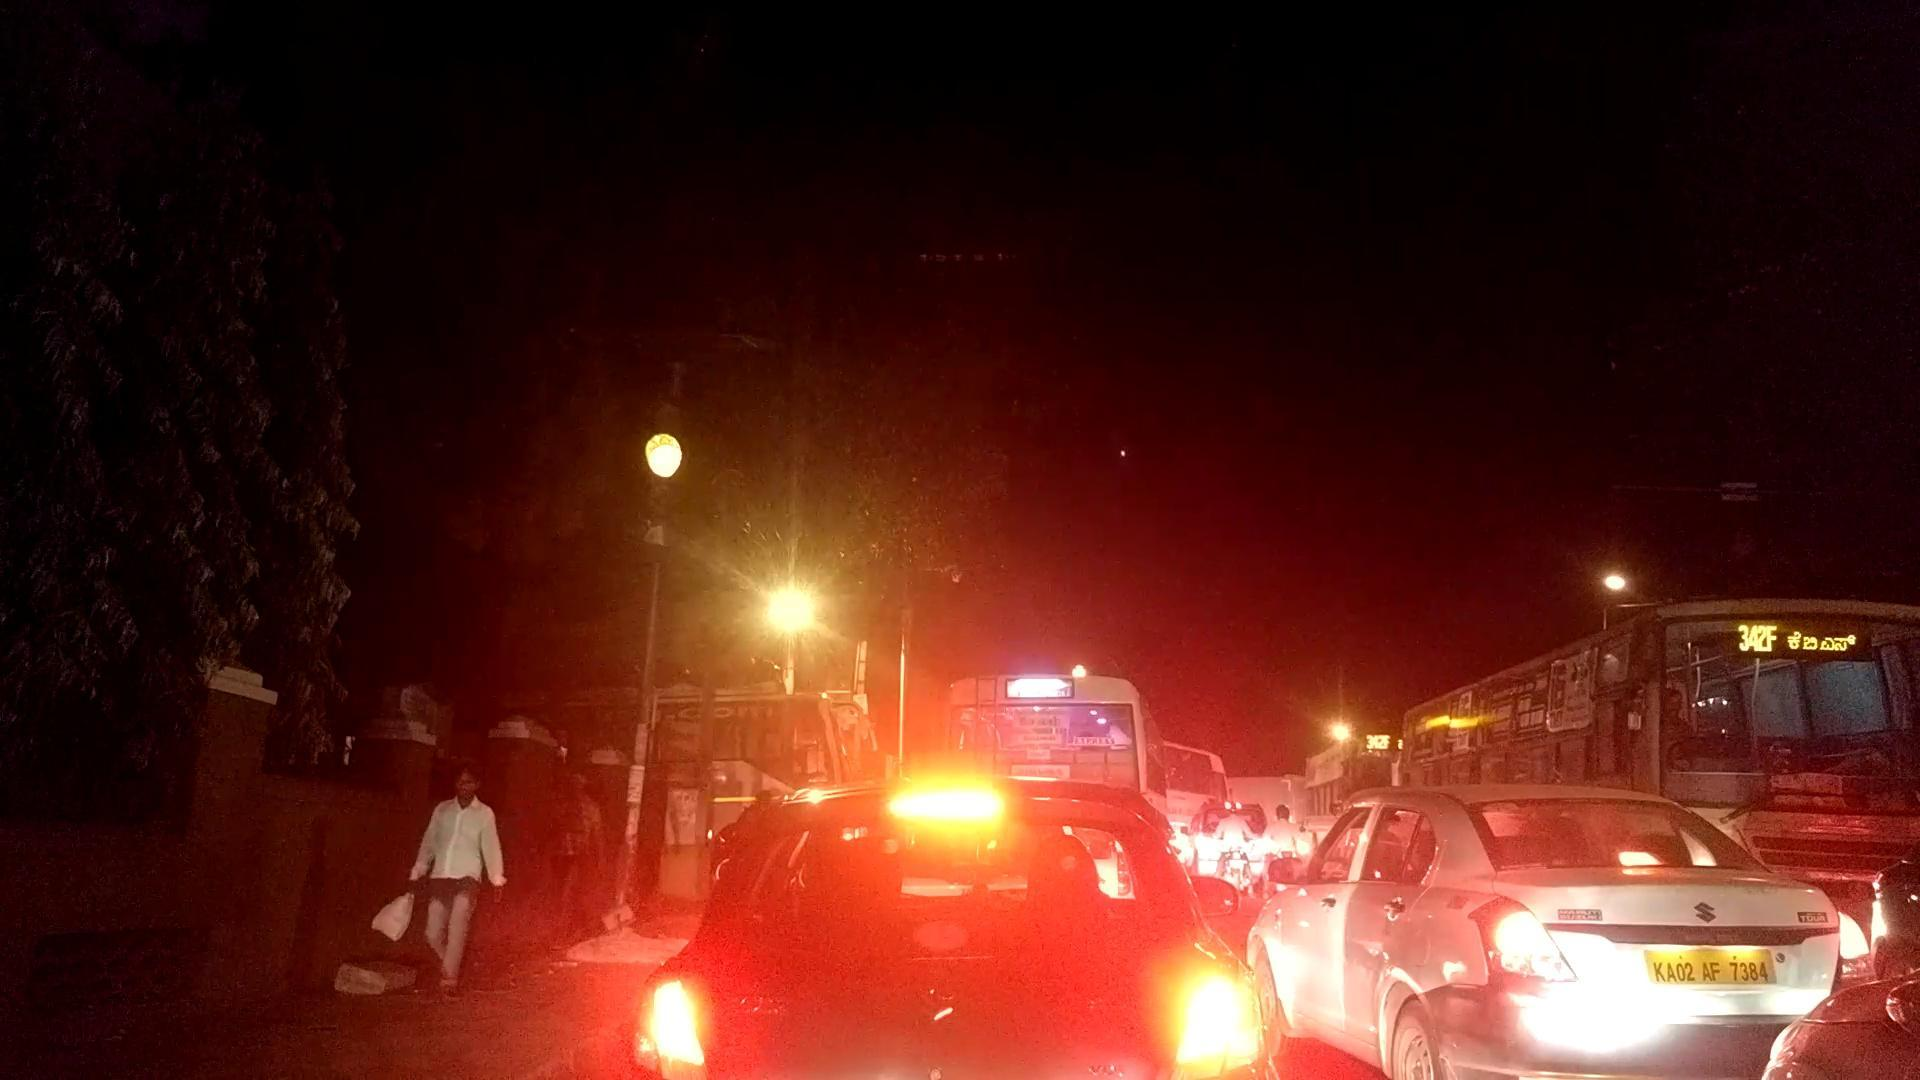on: (640, 442, 1000, 779)
